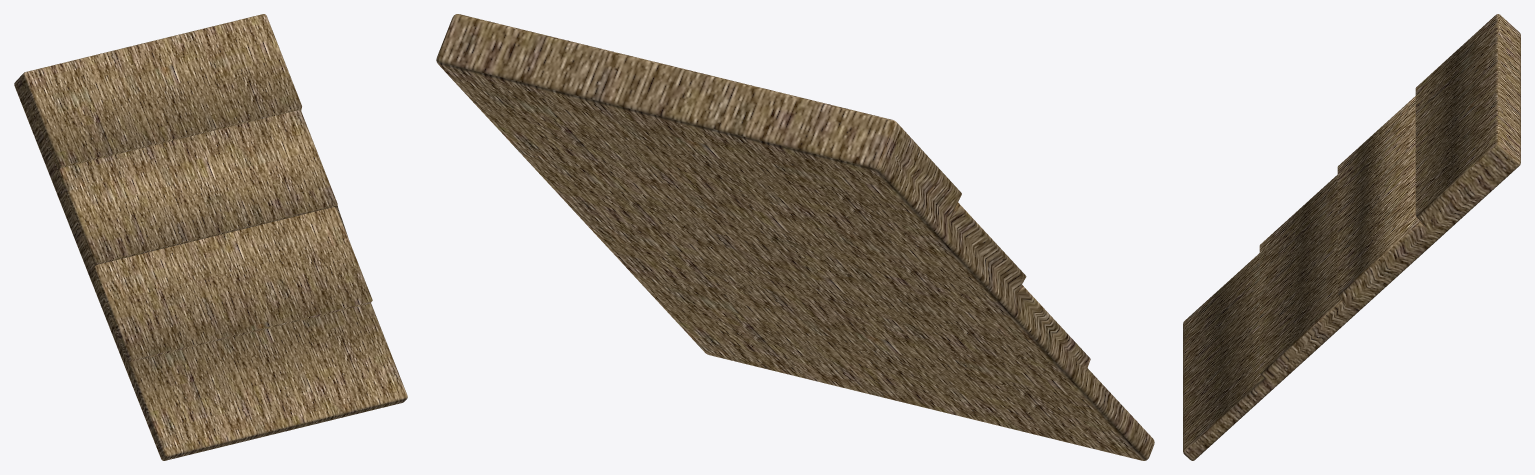
Rendered from roof.FBX.
3 renders of one model, left to right at view 1: azimuth 30°, elevation 25°; view 2: azimuth 150°, elevation 25°; view 3: azimuth 270°, elevation 25°, orthographic. The views are drawn at different scales.
Parts seen in each view (by area): view 1: Box001; view 2: Box001; view 3: Box001.
Part boxes in pixels (box(x1,y1,x2,y2)): Box001: box(14, 14, 407, 460); Box001: box(436, 14, 1154, 460); Box001: box(1183, 14, 1520, 460).
Size of the model in its own units: 20.25 by 22.59 by 21.74.
1 material, 1 textured.
